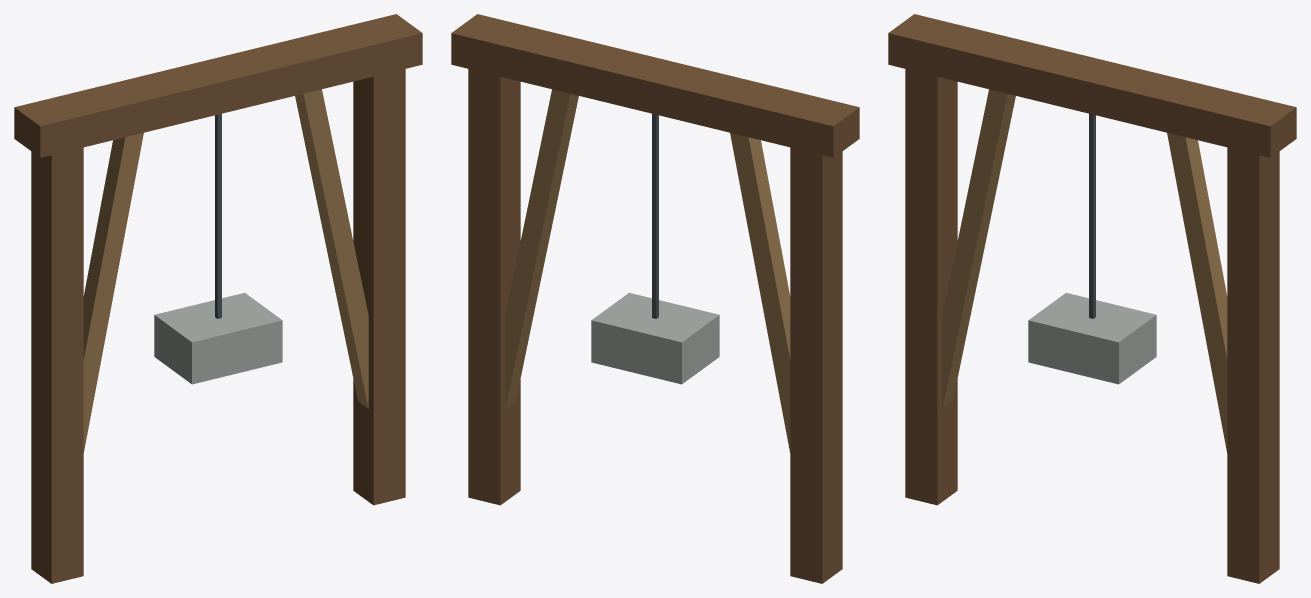
The model's file is derrick.glb.
3 views of the same model, side by side, from view 1: azimuth 30°, elevation 25°; view 2: azimuth 150°, elevation 25°; view 3: azimuth 330°, elevation 25° (orthographic).
Visible parts, largest first — view 1: derrick; view 2: derrick; view 3: derrick.
Part boxes in pixels (x1,y1,x2,y2): derrick: (14,14,422,583); derrick: (451,14,859,583); derrick: (888,14,1296,583).
Size of the model in its own units: 3.8 by 4.4 by 0.65.
